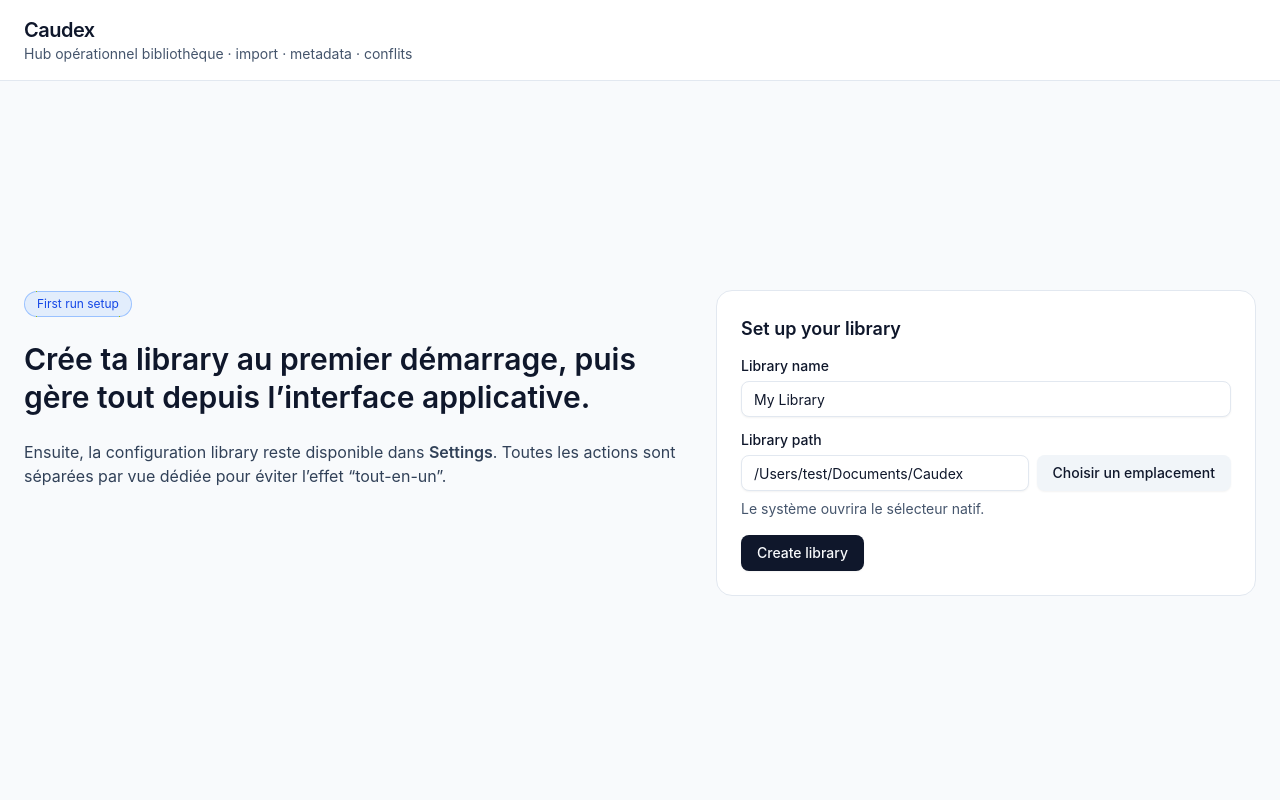
Test: workspace flow › creates the library and opens import step
Replace the text in the field labelled "Library name" with "Main Library" at (986, 399), box [741,381,1231,417]
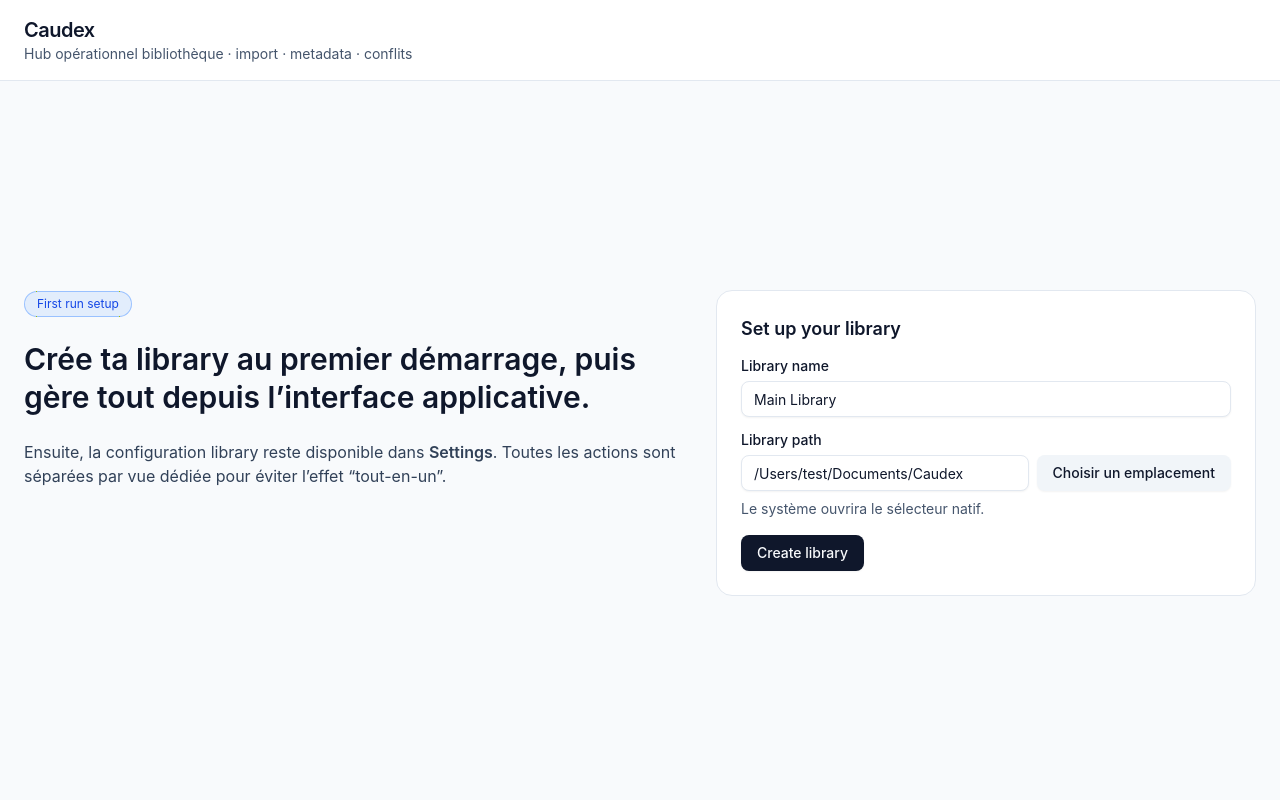
Click the button "Choisir un emplacement" at (1134, 473), box [1037,455,1231,491]
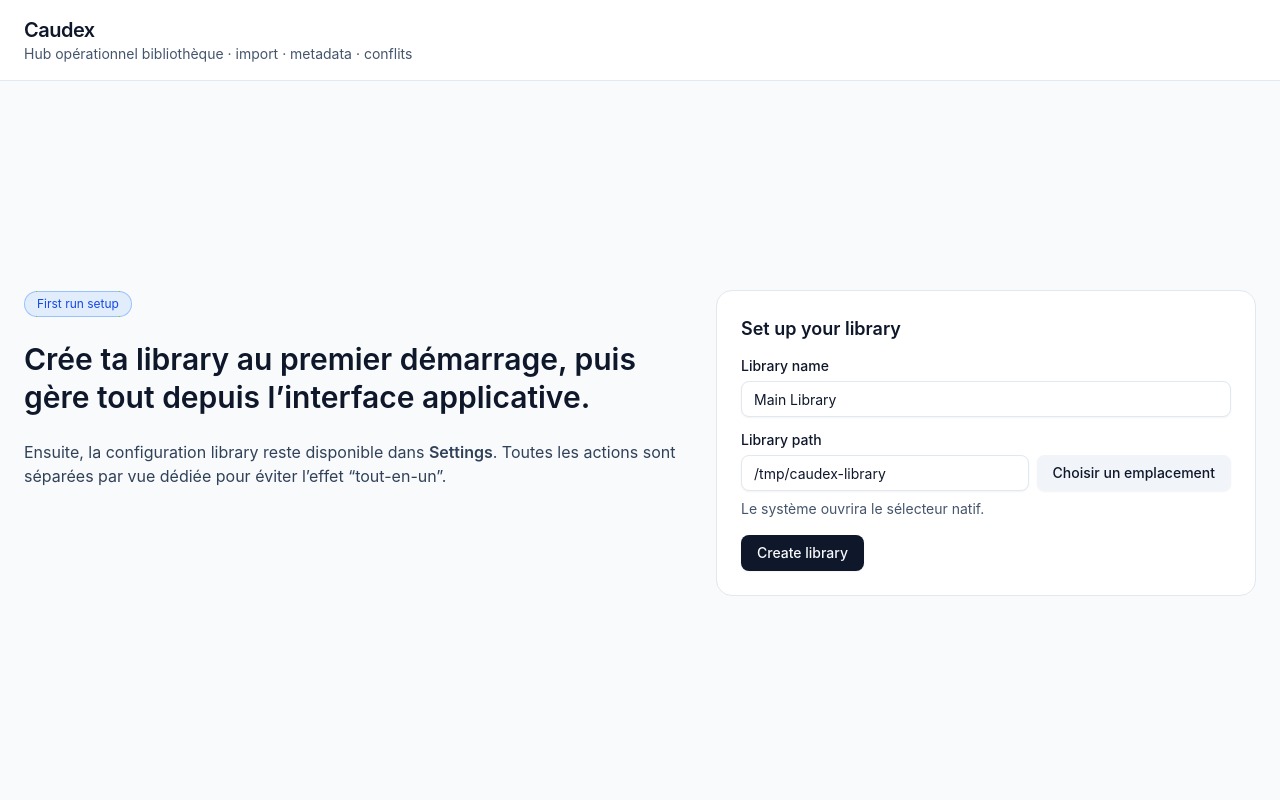
Click the button "Create library" at (802, 553), box [741,535,864,571]
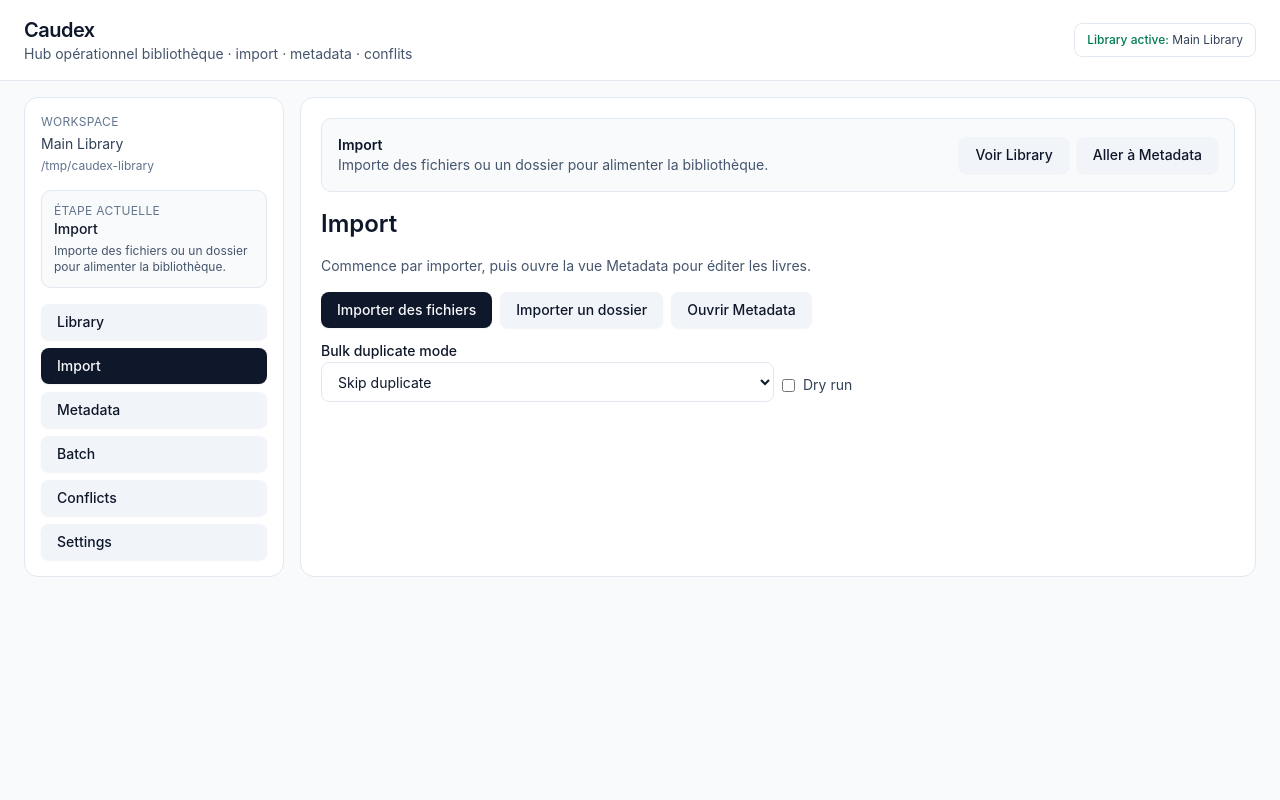
Now the heading "Import" is shown, box [321,209,397,238]
